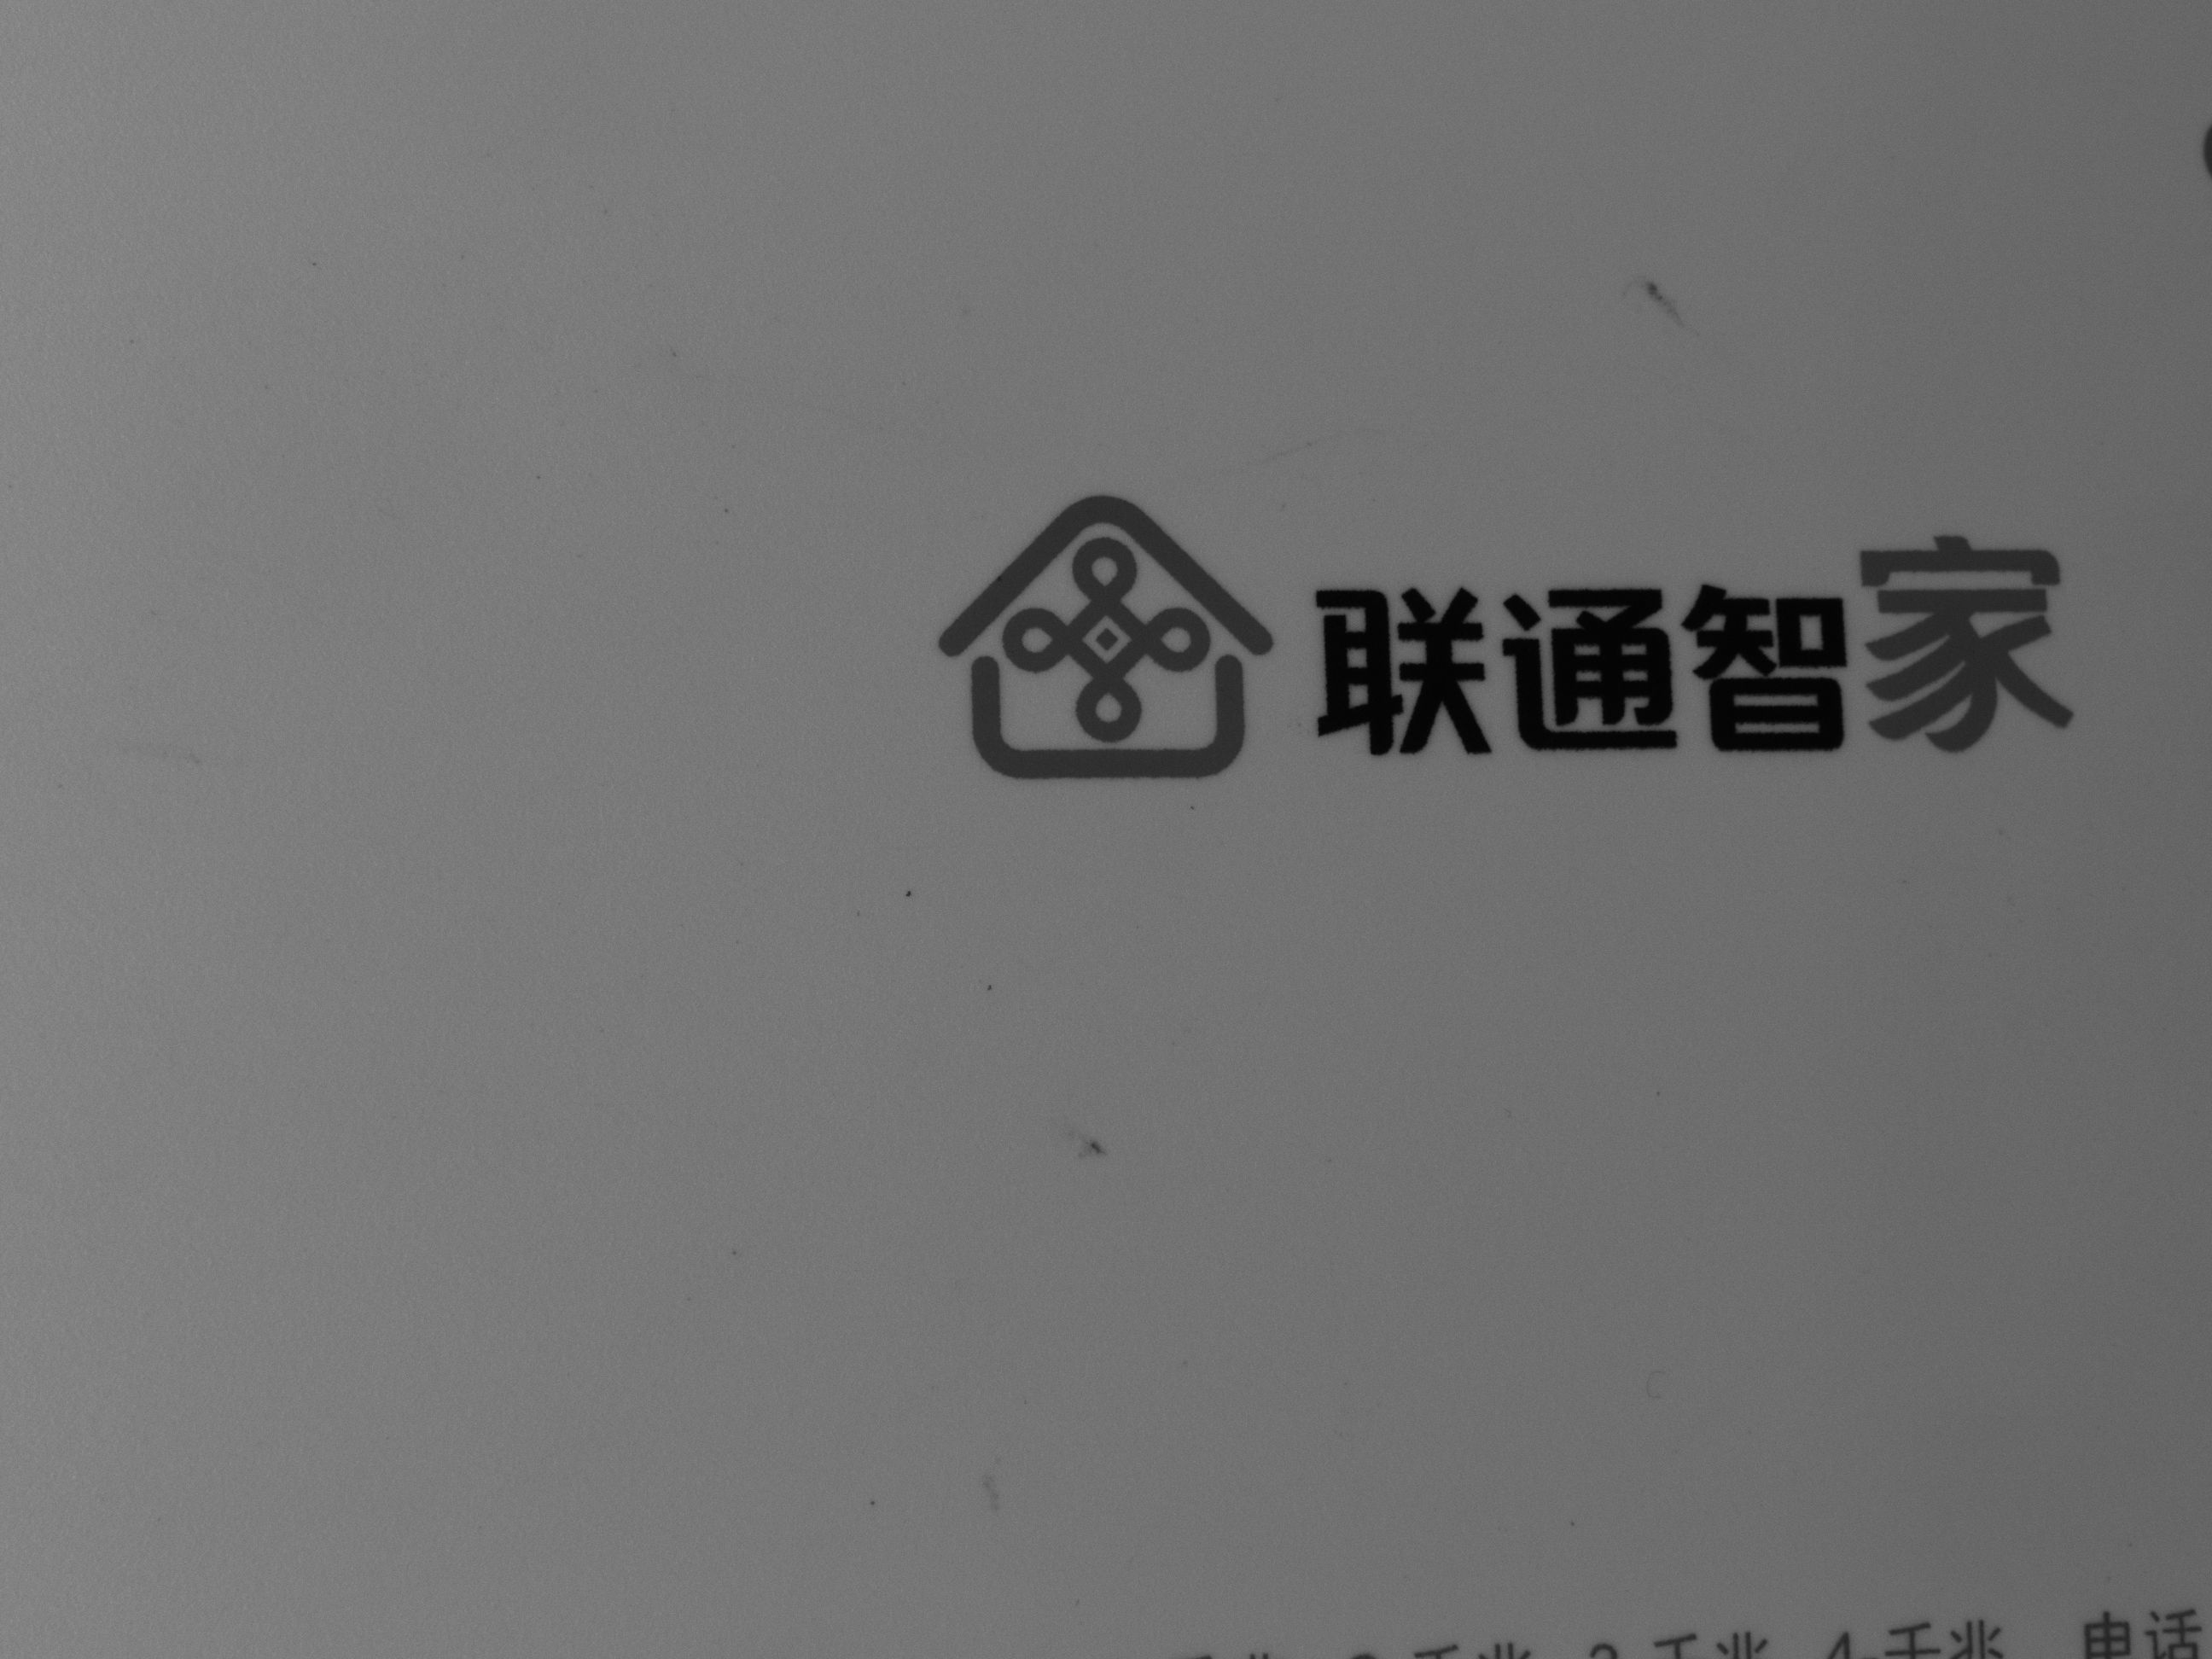BY_F6610Unicome: (873, 441, 2106, 796)
